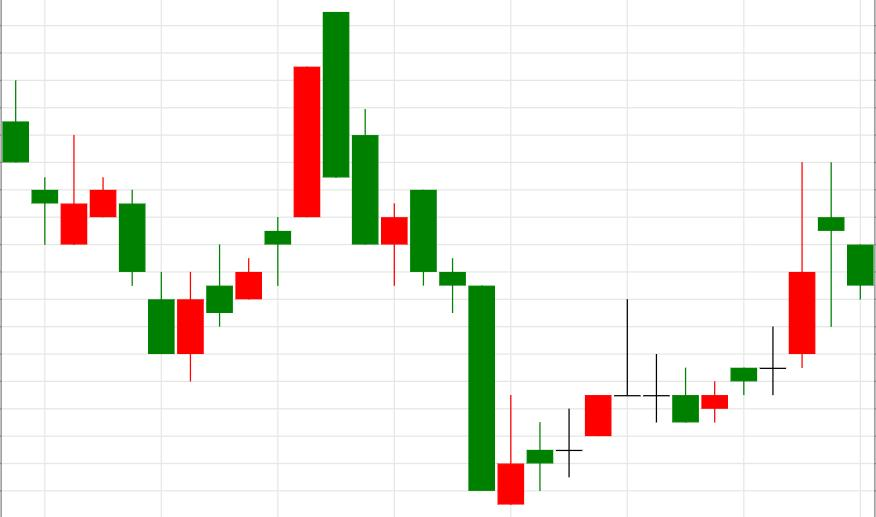inverse_hammer_rise: (323, 12, 524, 504)
